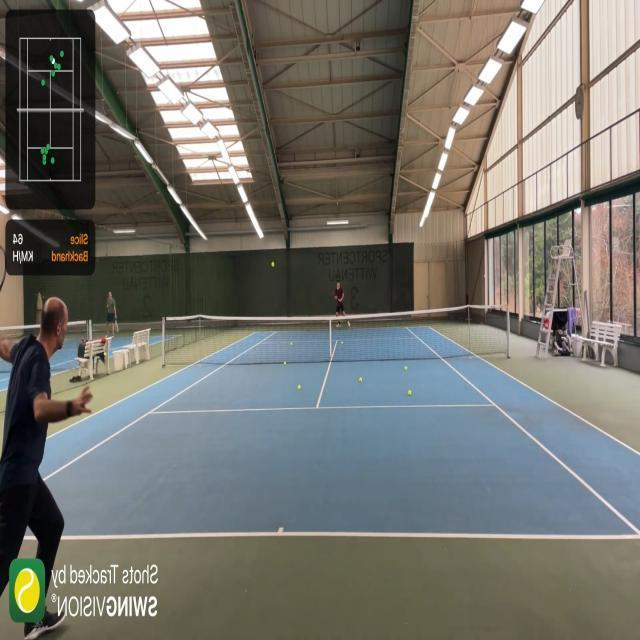court: (0, 326, 640, 542)
net: (159, 301, 512, 363)
player: (0, 298, 93, 640)
